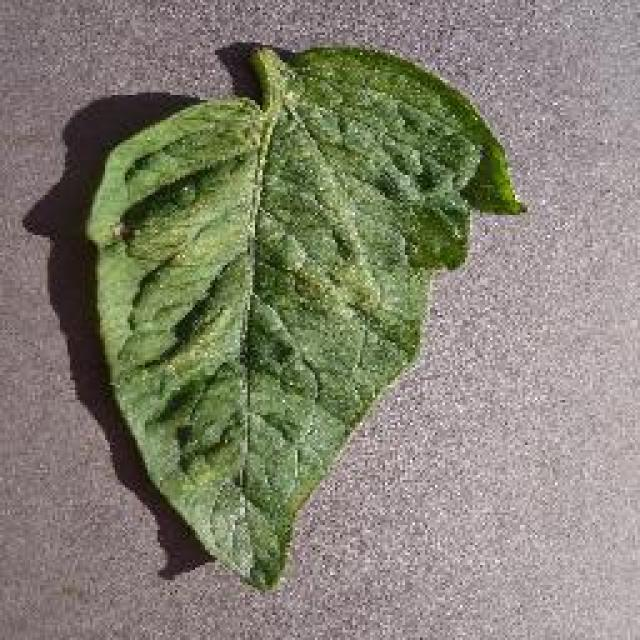Tomato___Spider_mites Two-spotted_spider_mite: (85, 45, 522, 585)
